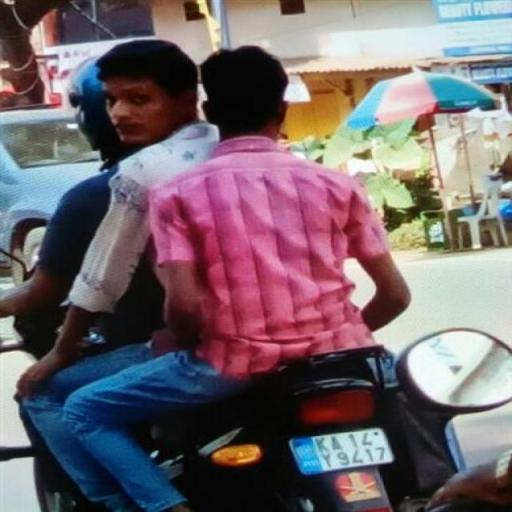tripple riding: (4, 39, 423, 428)
